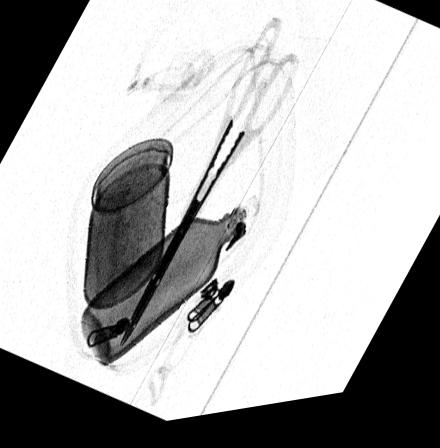Scissors: (119, 25, 300, 356)
